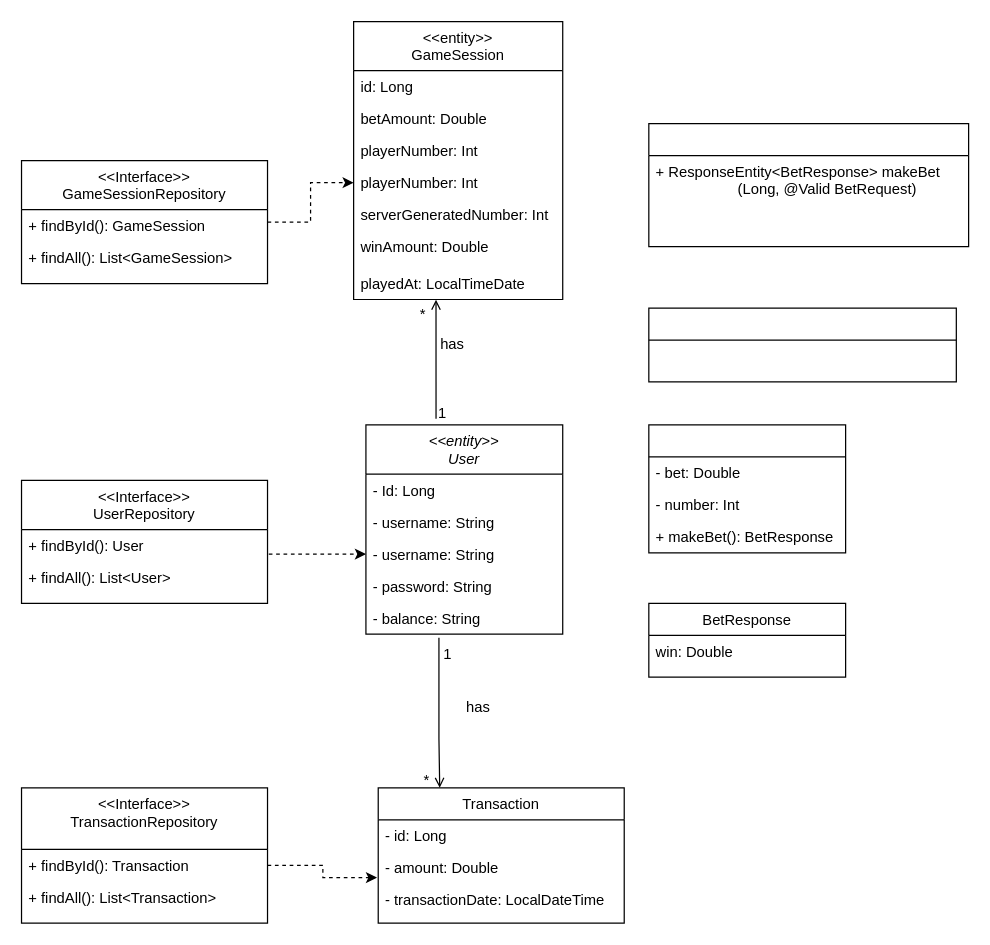
Image size: 990x945. Some labels were removed from this diagram. Each missing label, with the box of its shape:
BetRequest: (648, 424, 846, 553)
GameController: (648, 122, 969, 247)
GameService: (648, 307, 956, 382)
